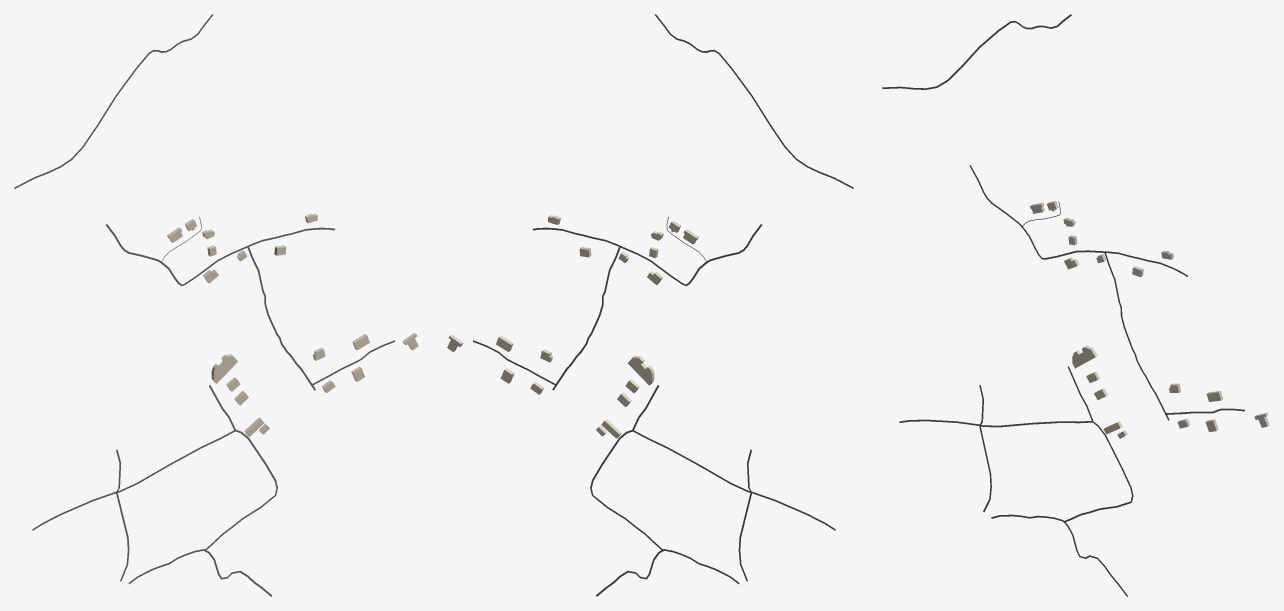
File: historic-palestine-11_25_3529_3199.glb
3 views of the same model, side by side, from view 1: azimuth 30°, elevation 25°; view 2: azimuth 150°, elevation 25°; view 3: azimuth 330°, elevation 25° (orthographic). The views are drawn at different scales.
Visible parts, largest first — view 1: Road; view 2: Road; view 3: Road.
Boxes of the visible parts, x1,y1,x2,y2 form: Road: [14, 14, 212, 188]; Road: [655, 14, 853, 188]; Road: [882, 14, 1071, 89].
Size of the model in its own units: 773 by 1090 by 8.7.
